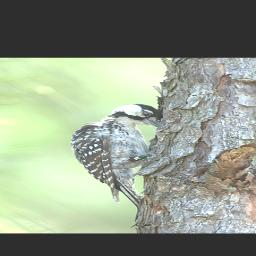Woodpecker: (68, 104, 162, 208)
